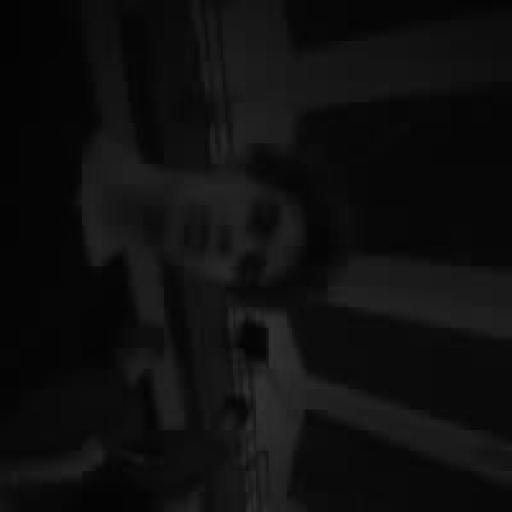human: (80, 131, 350, 307), (0, 326, 248, 509)
